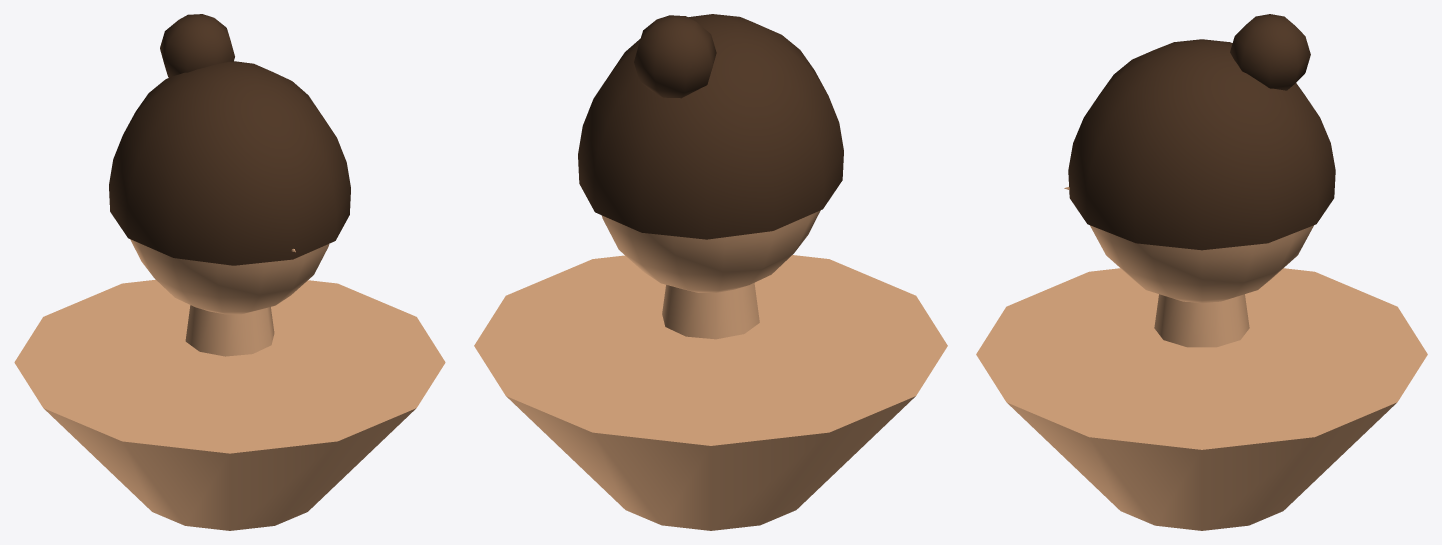
File: raw_003.glb
The picture shows the model from 3 angles, left to right: view 1: azimuth 30°, elevation 25°; view 2: azimuth 150°, elevation 25°; view 3: azimuth 270°, elevation 25°; orthographic projection. The views are drawn at different scales.
Bounding box in the file's own units: 1.99 × 2.3 × 1.99.
